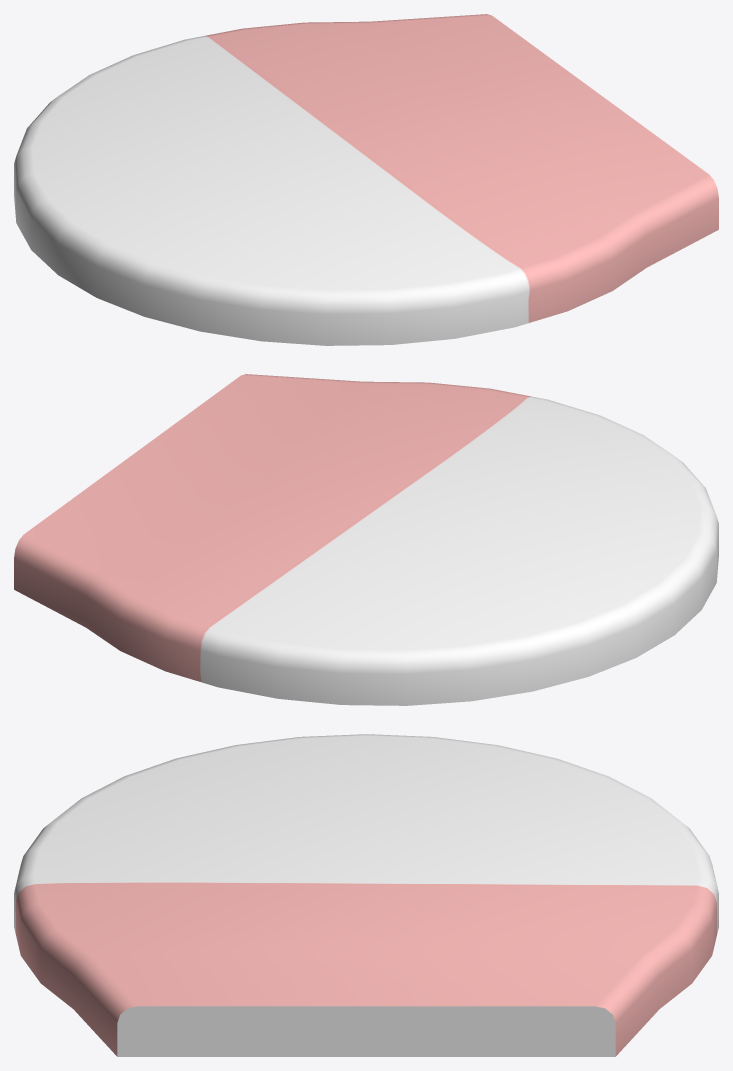
The model's file is StartCircle_red.fbx.
3 renders of one model, top to bottom at view 1: azimuth 30°, elevation 25°; view 2: azimuth 150°, elevation 25°; view 3: azimuth 270°, elevation 25°, orthographic. The views are drawn at different scales.
Visible parts, largest first — view 1: StartCircle_red; view 2: StartCircle_red; view 3: StartCircle_red.
Part boxes in pixels (bbox=[...]): StartCircle_red: bbox=[14, 14, 718, 345]; StartCircle_red: bbox=[14, 374, 718, 705]; StartCircle_red: bbox=[14, 734, 718, 1056].
Size of the model in its own units: 397 by 33.61 by 424.
Materials: 1 (1 with a texture image).
